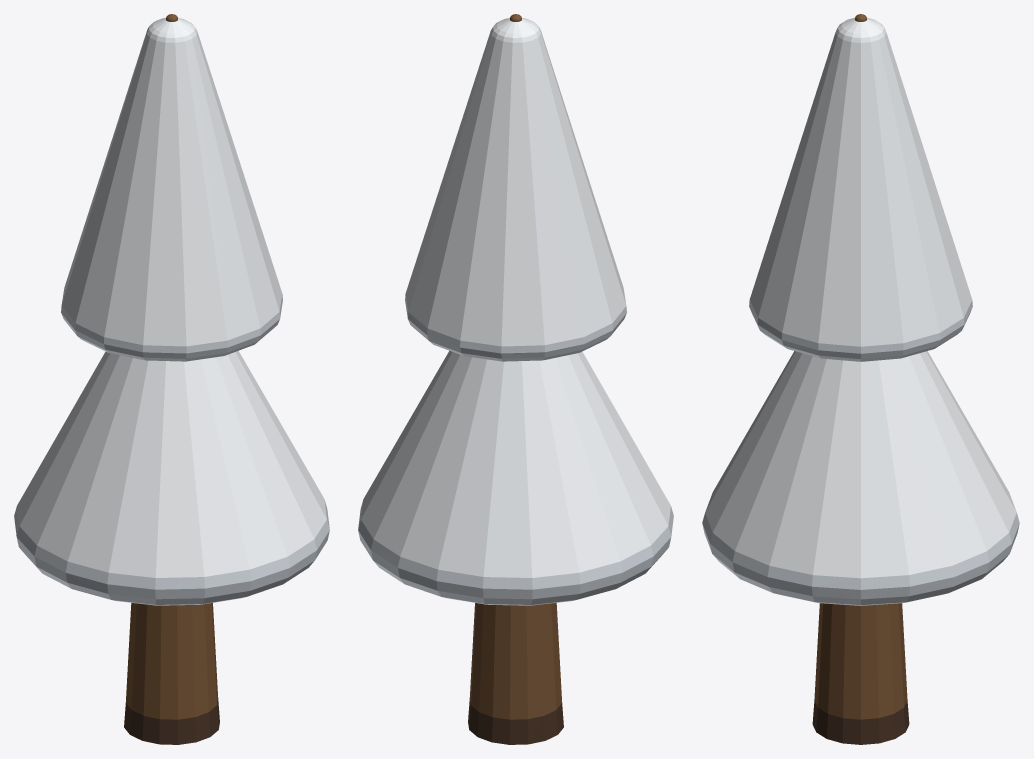
File: WindpineTreeFar.obj
3 renders of one model, left to right at view 1: azimuth 30°, elevation 25°; view 2: azimuth 150°, elevation 25°; view 3: azimuth 270°, elevation 25°, orthographic.
Bounding box in the file's own units: 5.29 × 13.05 × 5.29.
